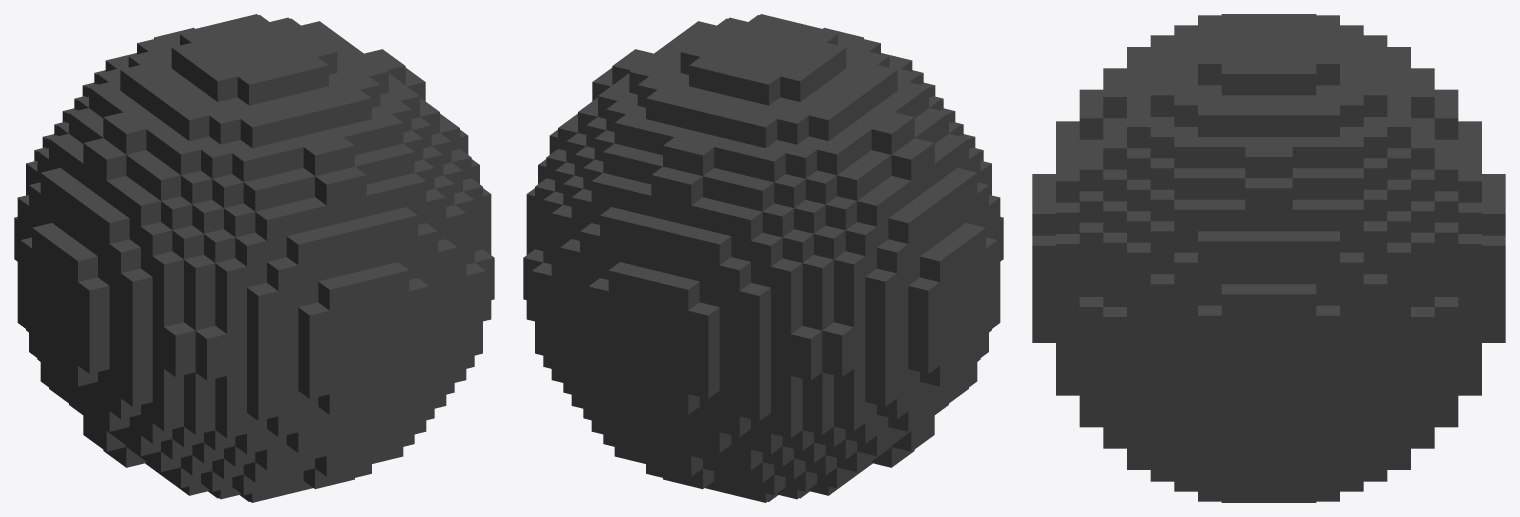
Rendered from AllSimpleModel-11-Sphere.obj.
The picture shows the model from 3 angles, left to right: view 1: azimuth 30°, elevation 25°; view 2: azimuth 150°, elevation 25°; view 3: azimuth 270°, elevation 25°; orthographic projection. The views are drawn at different scales.
Parts seen in each view (by area): view 1: Sphere; view 2: Sphere; view 3: Sphere.
Part boxes in pixels (x1,y1,x2,y2): Sphere: (14, 14, 494, 502); Sphere: (523, 14, 1003, 502); Sphere: (1032, 14, 1505, 502).
Bounding box in the file's own units: 2 × 2 × 2.
1 material, 1 textured.
